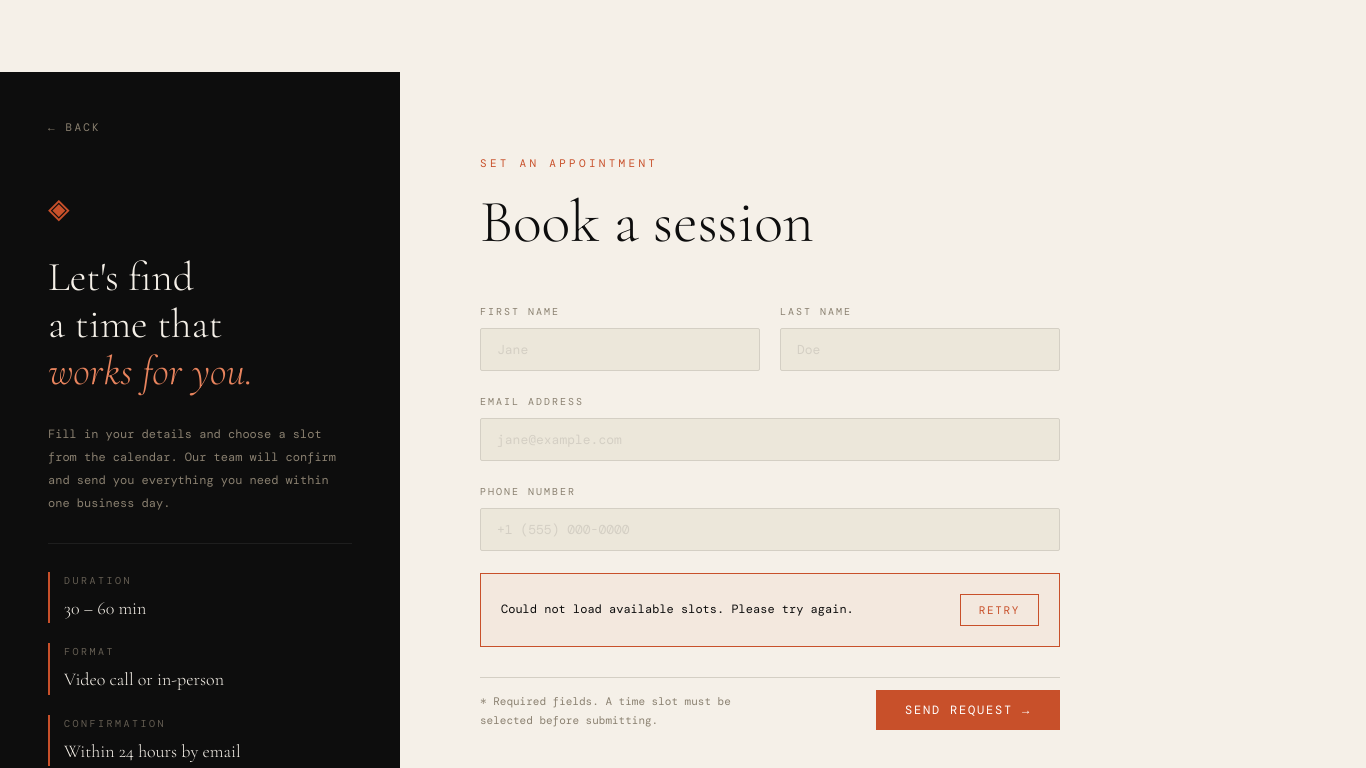
Test: AppointmentPage — error state › re-fetches when Retry is clicked
Click the button "Retry": {"x": 999, "y": 610} [960,594,1039,626]
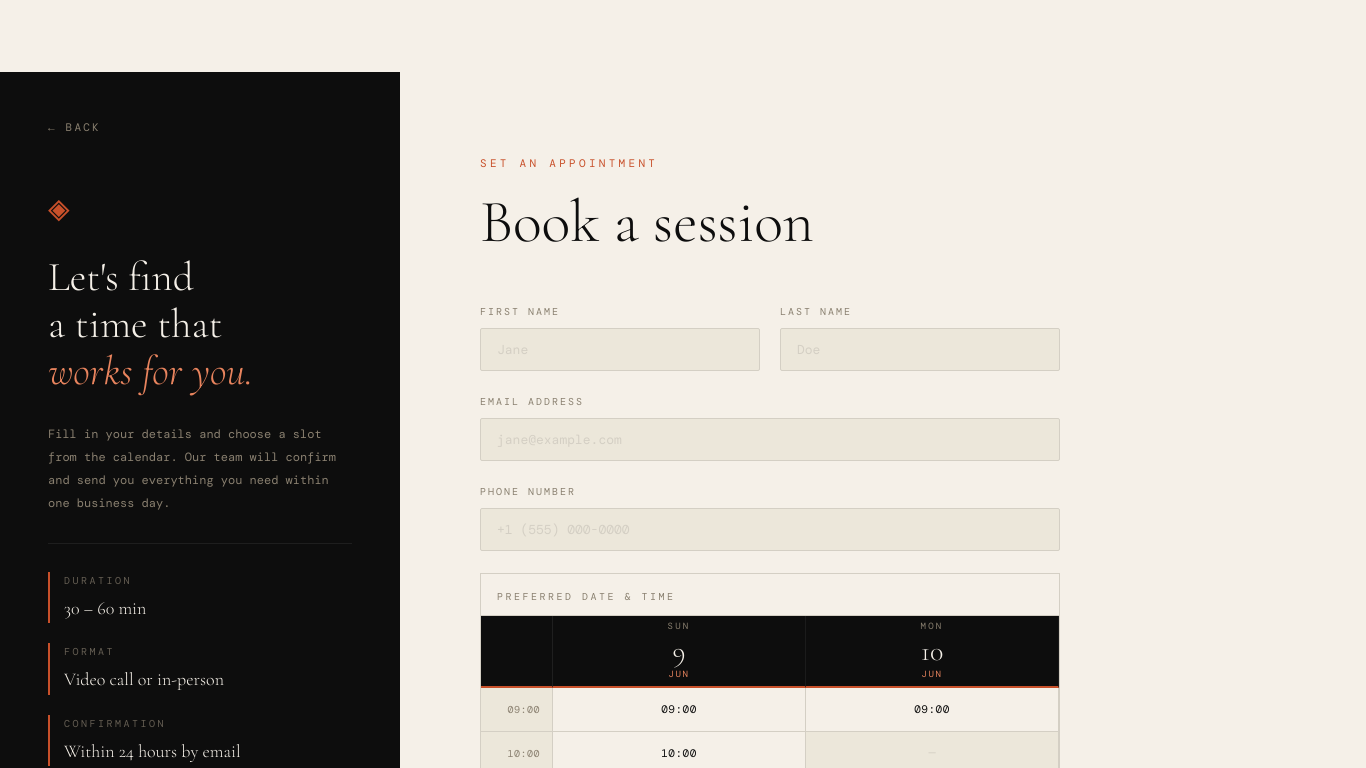
Check: the text "Could not load" is gone
